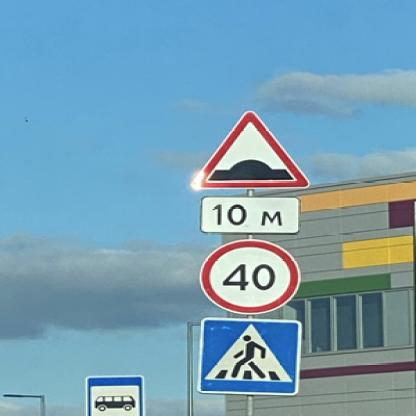Speed Limit 40: (202, 242, 302, 317)
